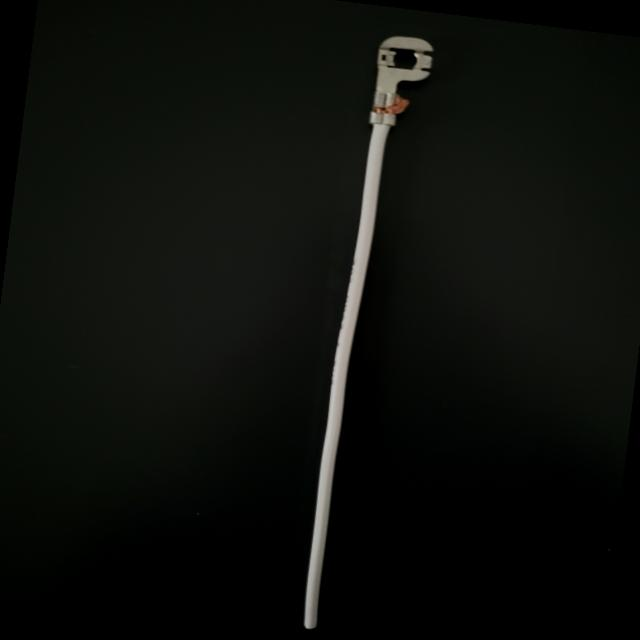defect: (216, 0, 515, 233)
